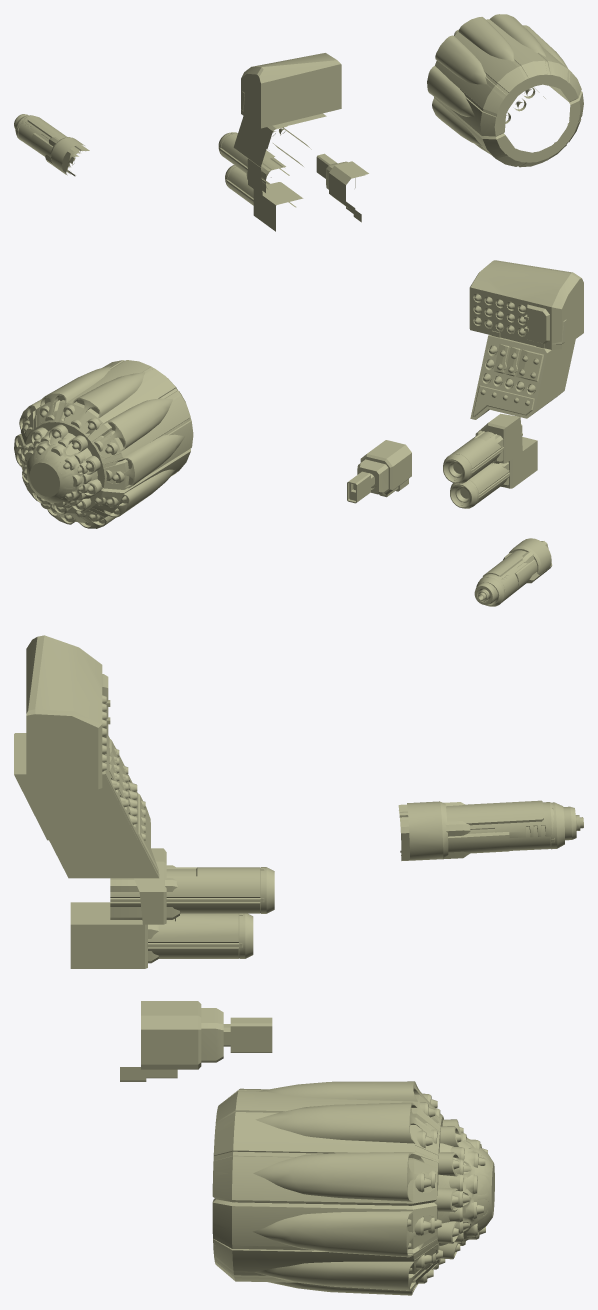
The model's file is ZeusWeapons.glb.
The picture shows the model from 3 angles, top to bottom: view 1: azimuth 30°, elevation 25°; view 2: azimuth 150°, elevation 25°; view 3: azimuth 270°, elevation 25°; orthographic projection. The views are drawn at different scales.
Parts seen in each view (by area): view 1: Torso_Left_MH1_Missile15, Forearm_Right_MH3_Missile10, Forearm_Right_MH3_Missile6, Forearm_Right_MH2_Missile6, Torso_Left_MH2_Missile15, Forearm_Left_BH1_AC10, Torso_Left_EH2_PPC, Torso_Left_EH1_PPC, Forearm_Right_MH2_Missile10, Torso_Center_EH1_Laser, Forearm_Right_MH3_Missile5, Torso_Center_EH1_Flamer (+4 smaller); view 2: Torso_Left_MH1_Missile15, Forearm_Right_MH3_Missile10, Forearm_Right_MH3_Missile6, Torso_Left_MH2_Missile15, Forearm_Right_MH1_Missile15, Torso_Left_EH2_PPC, Torso_Center_EH1_Laser, Forearm_Right_MH1_Missile20, Forearm_Left_BH1_AC10, Torso_Left_EH1_PPC, Forearm_Right_MH2_Missile10, Forearm_Right_MH2_Missile6 (+10 smaller); view 3: Forearm_Right_MH3_Missile6, Forearm_Right_MH3_Missile10, Forearm_Right_MH2_Missile15, Torso_Left_MH1_Missile15, Forearm_Right_MH2_Missile6, Forearm_Right_MH3_Missile15, Forearm_Left_BH1_AC10, Torso_Left_EH1_PPC, Torso_Left_MH2_Missile10, Torso_Center_EH1_Laser, Torso_Left_EH2_Laser, Torso_Left_EH2_PPC (+11 smaller).
Boxes of the visible parts, left/top/right/bottom form: Torso_Left_MH1_Missile15: left=241, top=53, right=341, bottom=128; Forearm_Right_MH3_Missile10: left=427, top=14, right=565, bottom=125; Forearm_Right_MH3_Missile6: left=435, top=19, right=581, bottom=136; Forearm_Right_MH2_Missile6: left=434, top=86, right=583, bottom=167; Torso_Left_MH2_Missile15: left=233, top=114, right=324, bottom=169; Forearm_Left_BH1_AC10: left=14, top=114, right=84, bottom=174; Torso_Left_EH2_PPC: left=225, top=165, right=296, bottom=231; Torso_Left_EH1_PPC: left=218, top=132, right=289, bottom=189; Forearm_Right_MH2_Missile10: left=432, top=88, right=554, bottom=165; Torso_Center_EH1_Laser: left=326, top=161, right=368, bottom=221; Forearm_Right_MH3_Missile5: left=496, top=75, right=576, bottom=126; Torso_Center_EH1_Flamer: left=316, top=153, right=365, bottom=222; Torso_Left_MH1_Missile15: left=469, top=260, right=583, bottom=349; Forearm_Right_MH3_Missile10: left=19, top=360, right=190, bottom=488; Forearm_Right_MH3_Missile6: left=21, top=360, right=193, bottom=489; Torso_Left_MH2_Missile15: left=470, top=336, right=575, bottom=419; Forearm_Right_MH1_Missile15: left=21, top=427, right=102, bottom=514; Torso_Left_EH2_PPC: left=450, top=441, right=537, bottom=508; Torso_Center_EH1_Laser: left=357, top=440, right=411, bottom=496; Forearm_Right_MH1_Missile20: left=21, top=424, right=97, bottom=513; Forearm_Left_BH1_AC10: left=474, top=538, right=551, bottom=604; Torso_Left_EH1_PPC: left=443, top=425, right=522, bottom=483; Forearm_Right_MH2_Missile10: left=14, top=434, right=176, bottom=528; Forearm_Right_MH2_Missile6: left=16, top=434, right=190, bottom=522; Forearm_Right_MH3_Missile6: left=212, top=1088, right=443, bottom=1205; Forearm_Right_MH3_Missile10: left=213, top=1081, right=443, bottom=1201; Forearm_Right_MH2_Missile15: left=212, top=1202, right=445, bottom=1295; Torso_Left_MH1_Missile15: left=26, top=635, right=110, bottom=789; Forearm_Right_MH2_Missile6: left=212, top=1198, right=439, bottom=1284; Forearm_Right_MH3_Missile15: left=213, top=1084, right=443, bottom=1205; Forearm_Left_BH1_AC10: left=407, top=800, right=576, bottom=860; Torso_Left_EH1_PPC: left=110, top=867, right=274, bottom=913; Torso_Left_MH2_Missile10: left=14, top=733, right=137, bottom=840; Torso_Center_EH1_Laser: left=125, top=1001, right=223, bottom=1077; Torso_Left_EH2_Laser: left=70, top=902, right=158, bottom=968; Torso_Left_EH2_PPC: left=147, top=913, right=253, bottom=958.
Bounding box in the file's own units: 1.79 × 0.8039 × 1.1.
